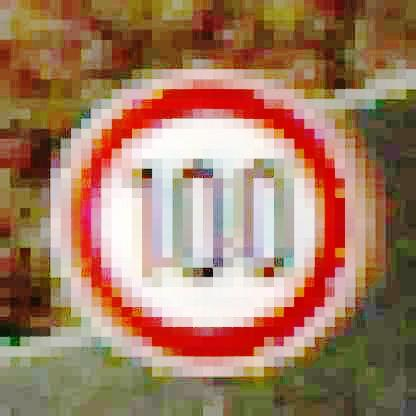Speed Limit -100-: (48, 66, 370, 378)
